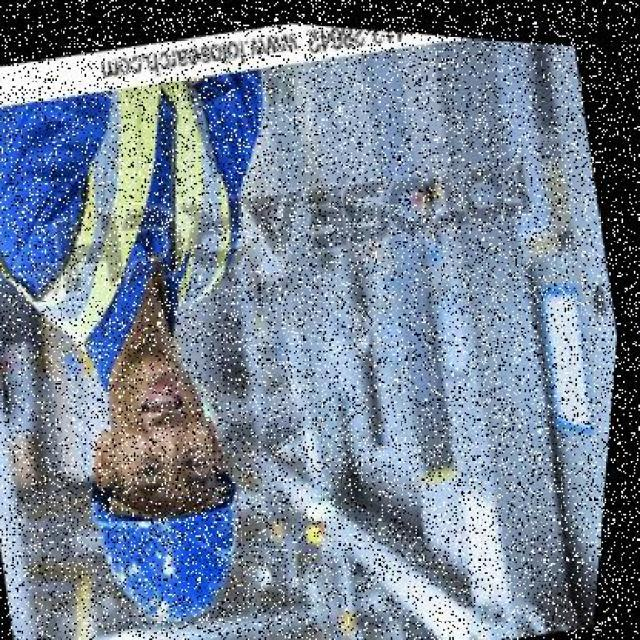helmet: (85, 463, 281, 639)
vest: (0, 30, 267, 355)
